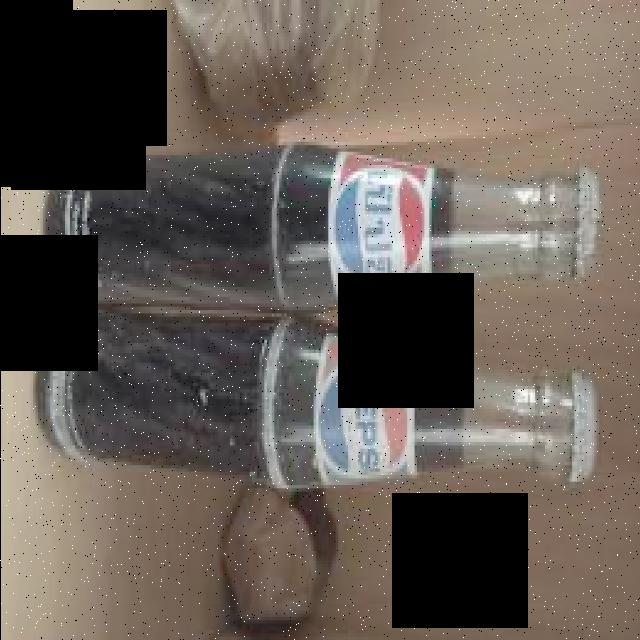glass-bottle: (25, 125, 617, 517)
